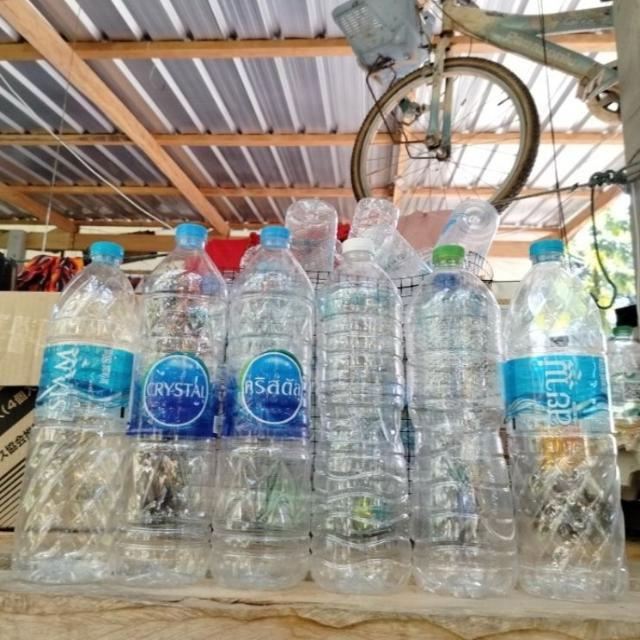PET Bottle: (17, 217, 151, 623), (510, 217, 640, 606), (290, 220, 418, 604), (404, 222, 526, 614), (214, 207, 316, 606), (136, 215, 216, 597)
